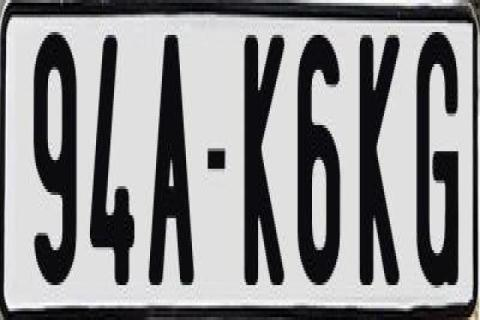0: (89, 29, 137, 279), (294, 35, 338, 303), (34, 26, 80, 282)
A: (148, 26, 198, 294)
G: (414, 29, 458, 291)
K: (360, 35, 404, 297), (242, 29, 286, 285)
